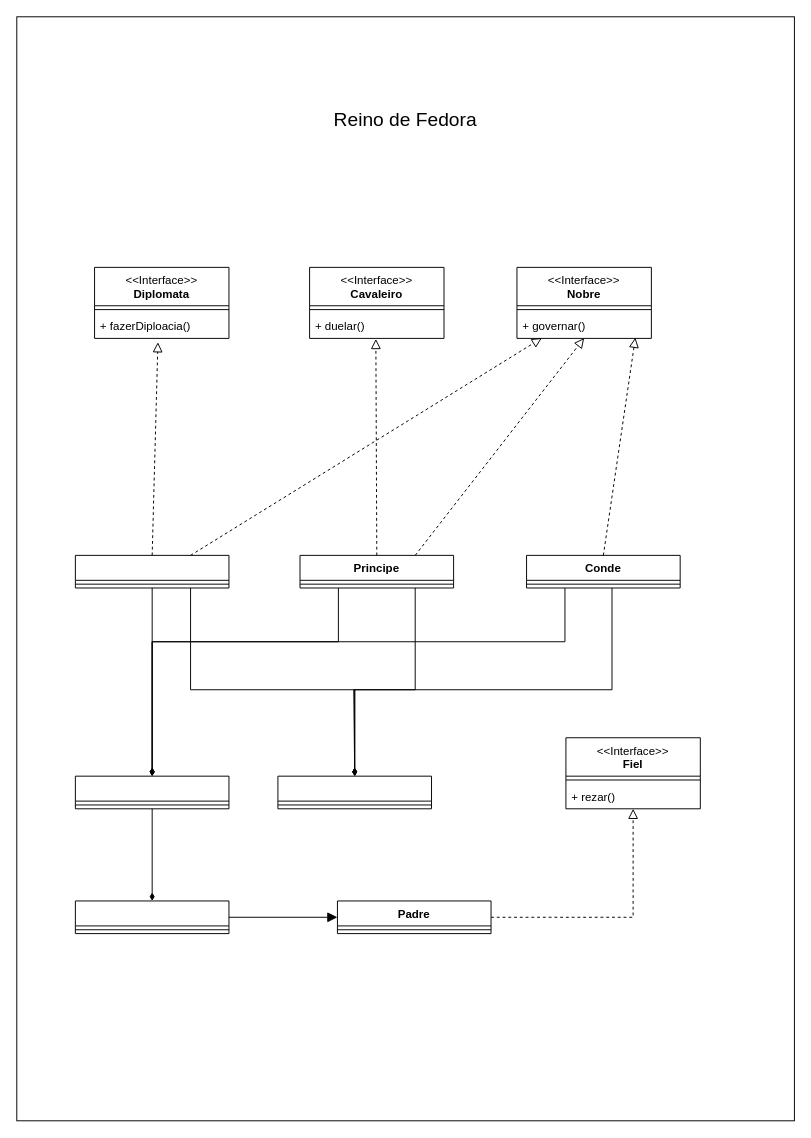
Image size: 811x1138. Some labels were removed from this diagram. The centre of each missing label's shape, as x and y in pixels:
Bispo: the point at 151,917
Conselheiro: the point at 151,792
Rainha: the point at 151,571
Soldado: the point at 354,792
